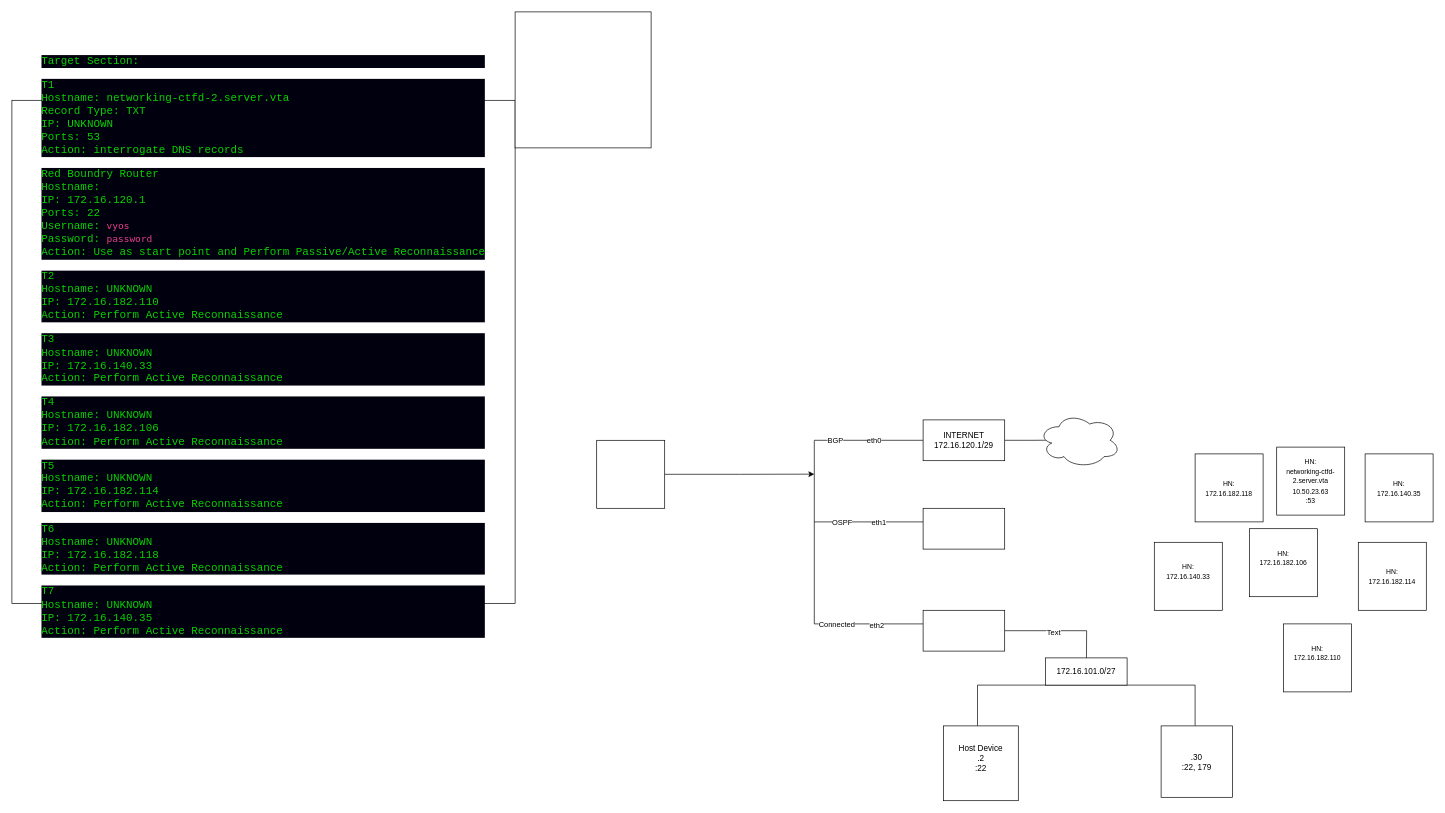
This 1445x813 diagram has some shape labels left out. Each missing label, with the centre of its shape:
"DMZ 172.16.101.30/27" belongs at (x=963, y=630).
"Gathered Intelligence: Credentials netX_studentX:passwordX vyos:password" belongs at (x=582, y=79).
"Internet" belongs at (x=1079, y=440).
"REDNET 172.16.120.10/29" belongs at (x=963, y=528).
"Start * HN: 172.16.120.1. :22, 179 User: vyos Pass: password" belongs at (x=630, y=474).
